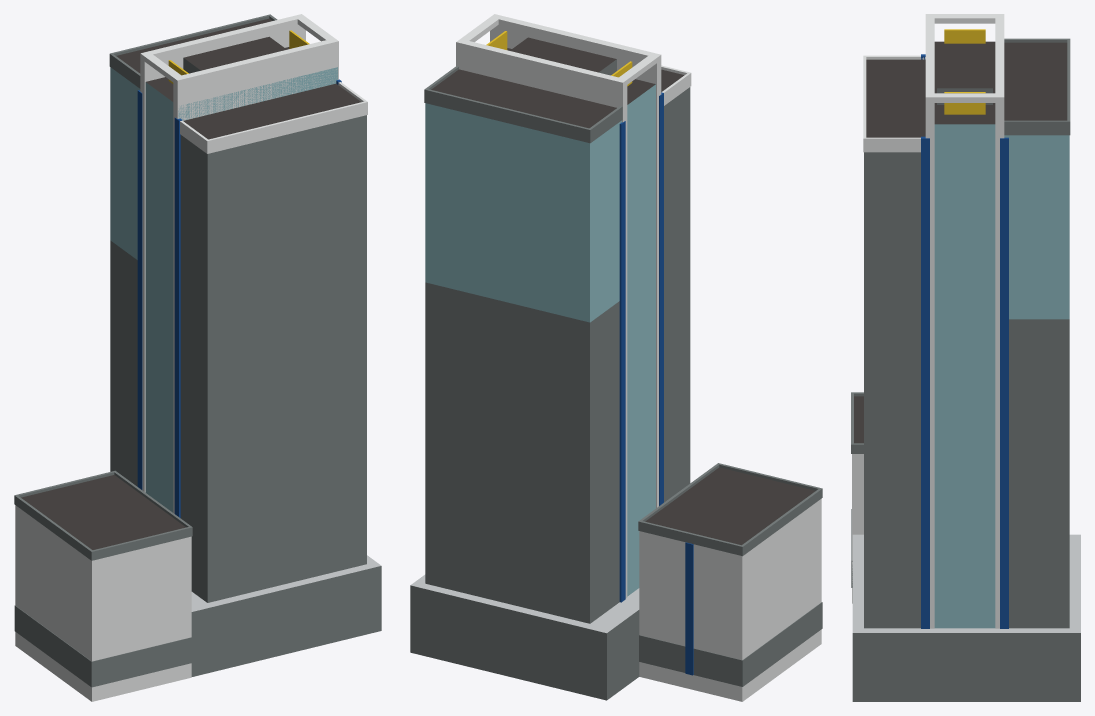
Rendered from br_b262_holyrood_gardens_lod2.gltf.
3 views of the same model, side by side, from view 1: azimuth 30°, elevation 25°; view 2: azimuth 150°, elevation 25°; view 3: azimuth 270°, elevation 25° (orthographic). The views are drawn at different scales.
Parts seen in each view (by area): view 1: br_b262_holyrood_gardens_lod2; view 2: br_b262_holyrood_gardens_lod2; view 3: br_b262_holyrood_gardens_lod2.
Part boxes in pixels (x1=…): br_b262_holyrood_gardens_lod2: x1=14, y1=14, x2=381, y2=701; br_b262_holyrood_gardens_lod2: x1=410, y1=14, x2=822, y2=701; br_b262_holyrood_gardens_lod2: x1=851, y1=14, x2=1080, y2=701.
Size of the model in its own units: 47.42 by 88.3 by 30.64.
